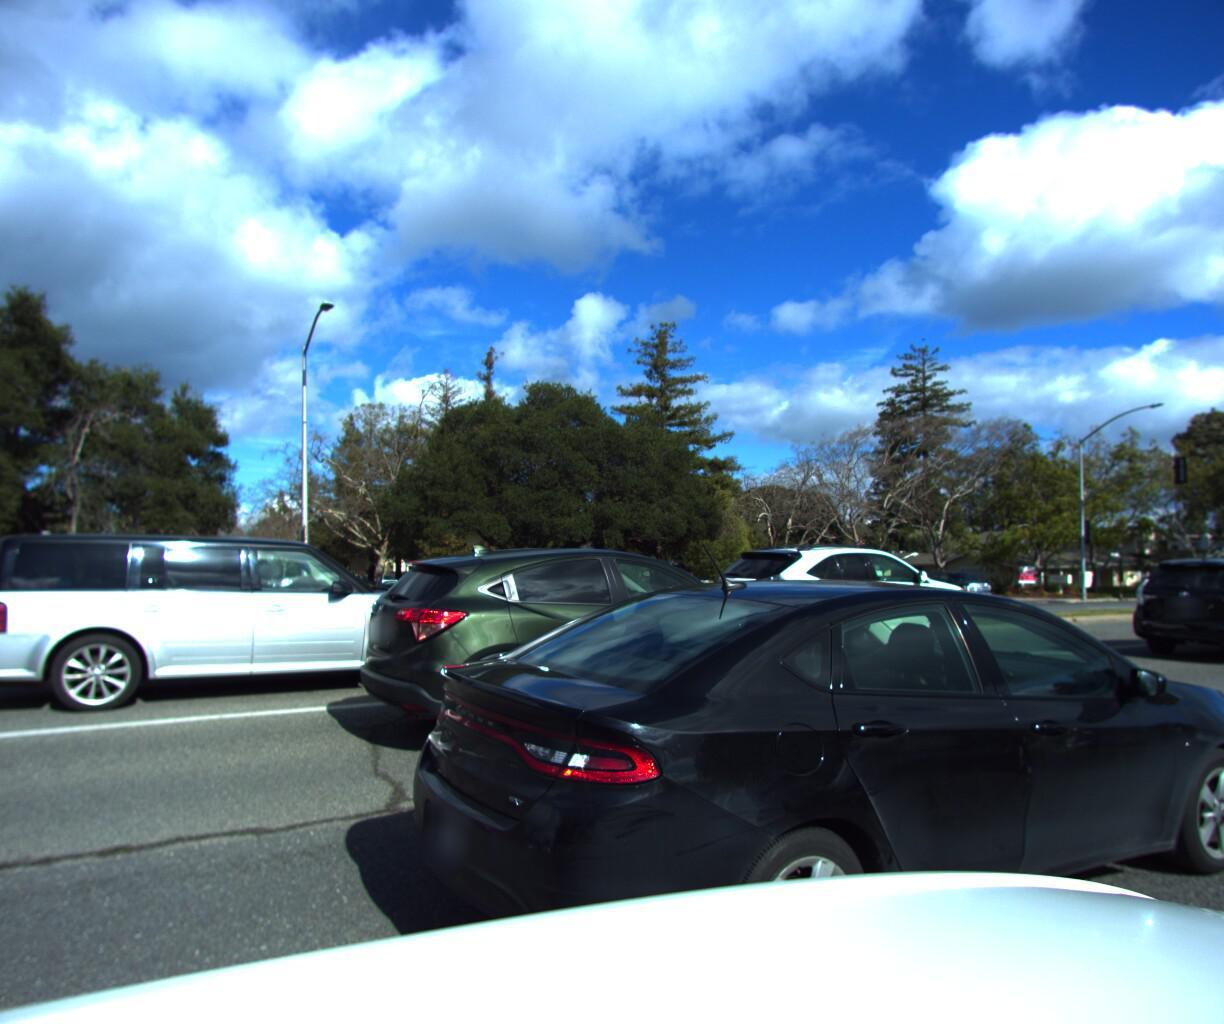car: (387, 493, 1224, 1024), (356, 539, 871, 776), (0, 524, 491, 731), (703, 525, 991, 655), (1116, 556, 1224, 671), (915, 574, 995, 609)
